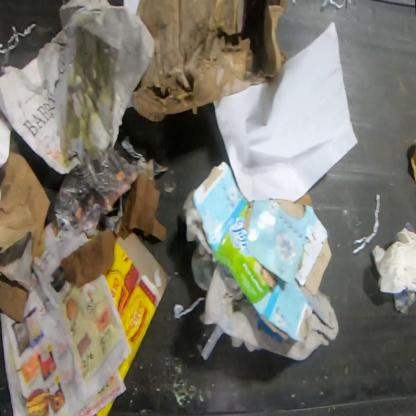cardboard: (190, 161, 331, 344), (130, 0, 288, 122), (106, 231, 170, 386), (0, 151, 51, 255), (0, 275, 29, 326)
